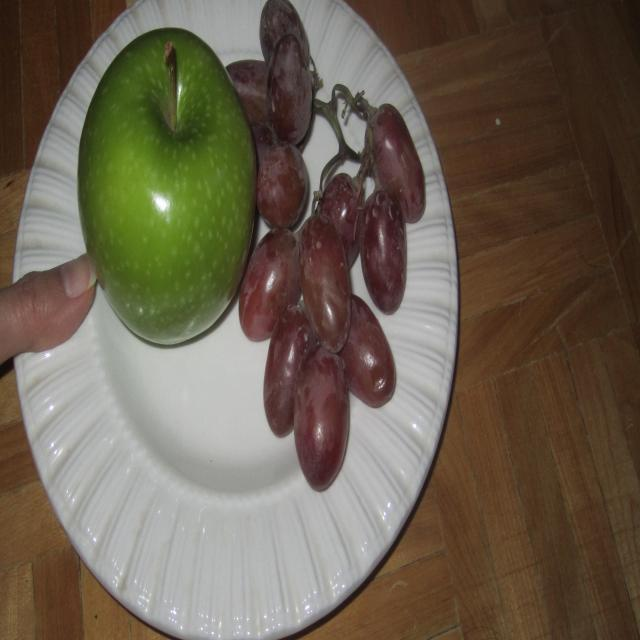apple: (78, 24, 256, 358)
grape: (263, 0, 467, 499)
